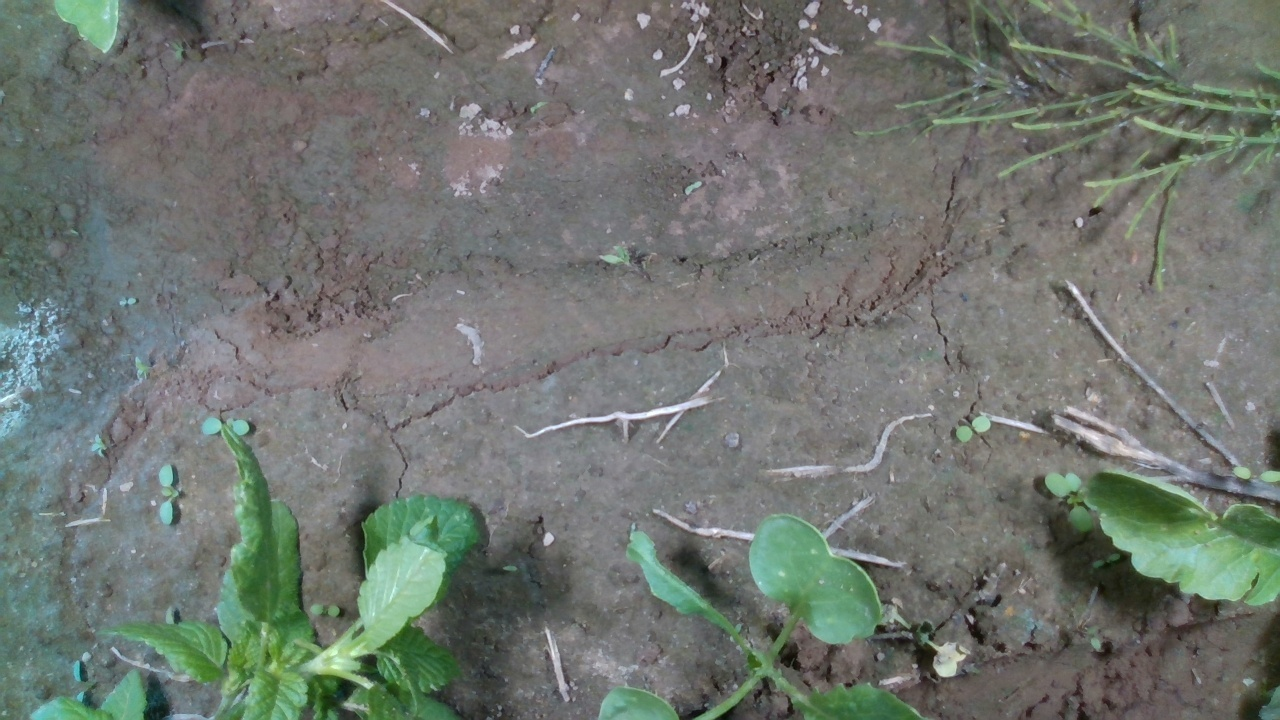weed: (155, 463, 178, 527), (955, 414, 991, 445), (308, 602, 339, 616)
